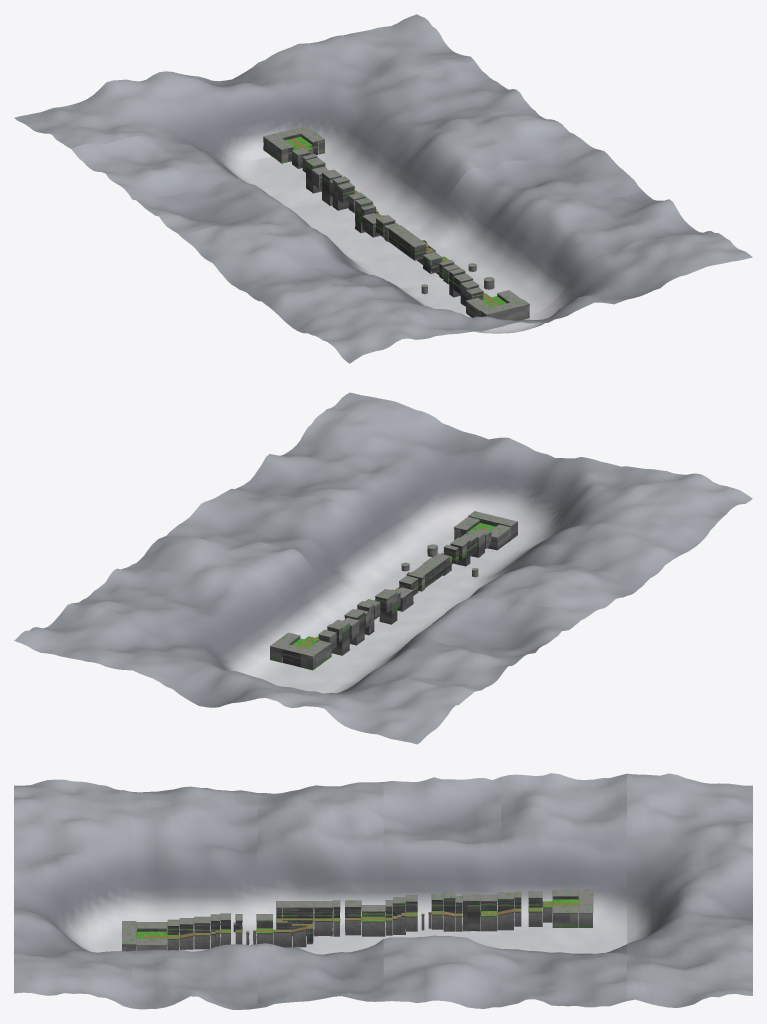
File: goat_trails_terrain.glb
3 views of the same model, one above another, from view 1: azimuth 30°, elevation 25°; view 2: azimuth 150°, elevation 25°; view 3: azimuth 270°, elevation 25° (orthographic). The views are drawn at different scales.
Parts seen in each view (by area): view 1: backdrop_5, backdrop_2, backdrop_4, backdrop_1, backdrop_3, backdrop_0, terrain_J, terrain_A, terrain_G, terrain_B, terrain_C, terrain_I (+3 smaller); view 2: backdrop_0, backdrop_1, backdrop_2, backdrop_3, backdrop_5, backdrop_4, terrain_J, terrain_A, terrain_G, terrain_B, terrain_I, terrain_H (+1 smaller); view 3: backdrop_5, backdrop_4, backdrop_0, backdrop_1, backdrop_2, backdrop_3, terrain_G, terrain_B, terrain_J, terrain_D, terrain_H, terrain_E (+4 smaller).
Boxes of the visible parts, box(x1,y1,x2,y2) form: backdrop_5: box(14, 14, 473, 160); backdrop_2: box(182, 142, 641, 289); backdrop_4: box(71, 60, 531, 208); backdrop_1: box(239, 190, 698, 330); backdrop_3: box(129, 108, 584, 247); backdrop_0: box(296, 231, 752, 363); terrain_J: box(263, 126, 324, 163); terrain_A: box(466, 290, 529, 320); terrain_G: box(332, 176, 381, 233); terrain_B: box(443, 264, 490, 306); terrain_C: box(421, 252, 494, 294); terrain_I: box(292, 147, 326, 193); backdrop_0: box(297, 392, 752, 543); backdrop_1: box(239, 445, 699, 586); backdrop_2: box(182, 487, 641, 628); backdrop_3: box(129, 523, 584, 667); backdrop_5: box(14, 603, 473, 744); backdrop_4: box(71, 567, 527, 693); terrain_J: box(270, 632, 331, 670); terrain_A: box(454, 511, 517, 550); terrain_G: box(357, 589, 400, 635); terrain_B: box(443, 528, 491, 566); terrain_I: box(316, 620, 349, 655); terrain_H: box(343, 609, 368, 645); backdrop_5: box(627, 773, 752, 1007); backdrop_4: box(501, 773, 626, 1007); backdrop_0: box(14, 779, 131, 1008); backdrop_1: box(131, 786, 257, 1009); backdrop_2: box(257, 782, 383, 1008); backdrop_3: box(383, 777, 500, 1008); terrain_G: box(385, 891, 455, 935); terrain_B: box(167, 913, 230, 950); terrain_J: box(542, 889, 593, 927); terrain_D: box(273, 901, 313, 947); terrain_H: box(455, 894, 497, 931); terrain_E: box(314, 900, 361, 936).
Size of the model in its own units: 427 by 90.18 by 616.
